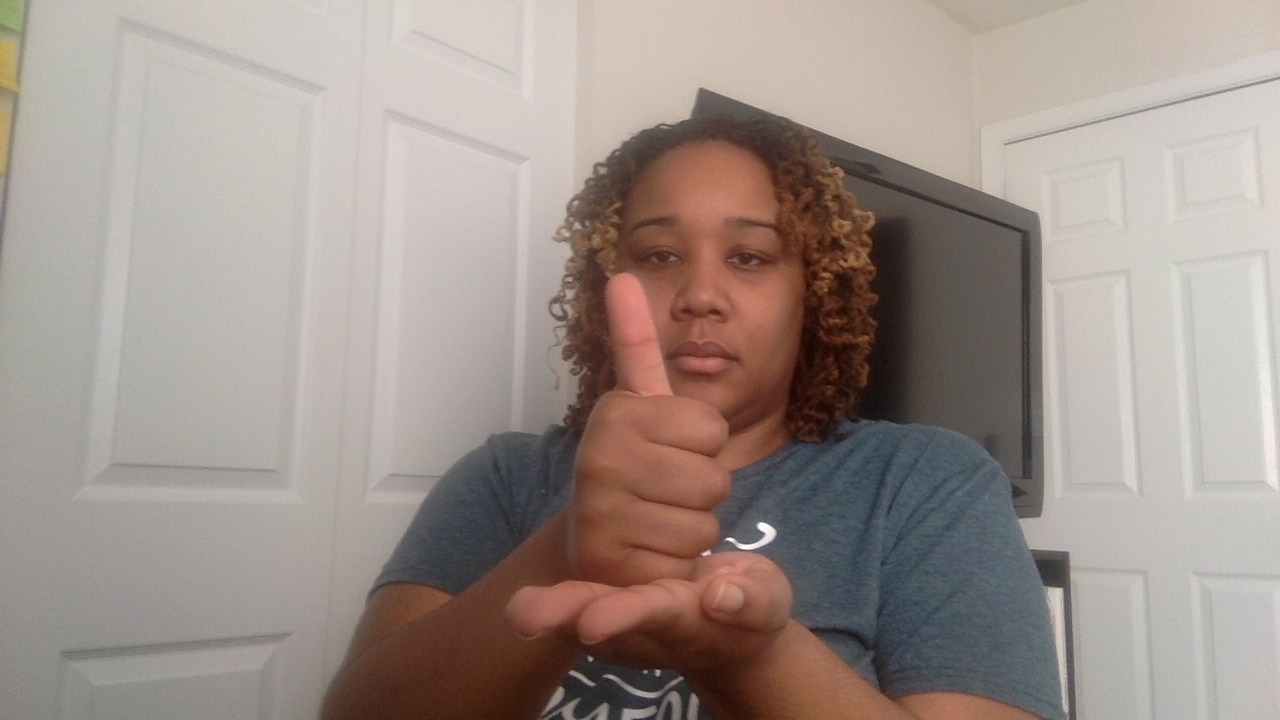help: (490, 273, 806, 720)
